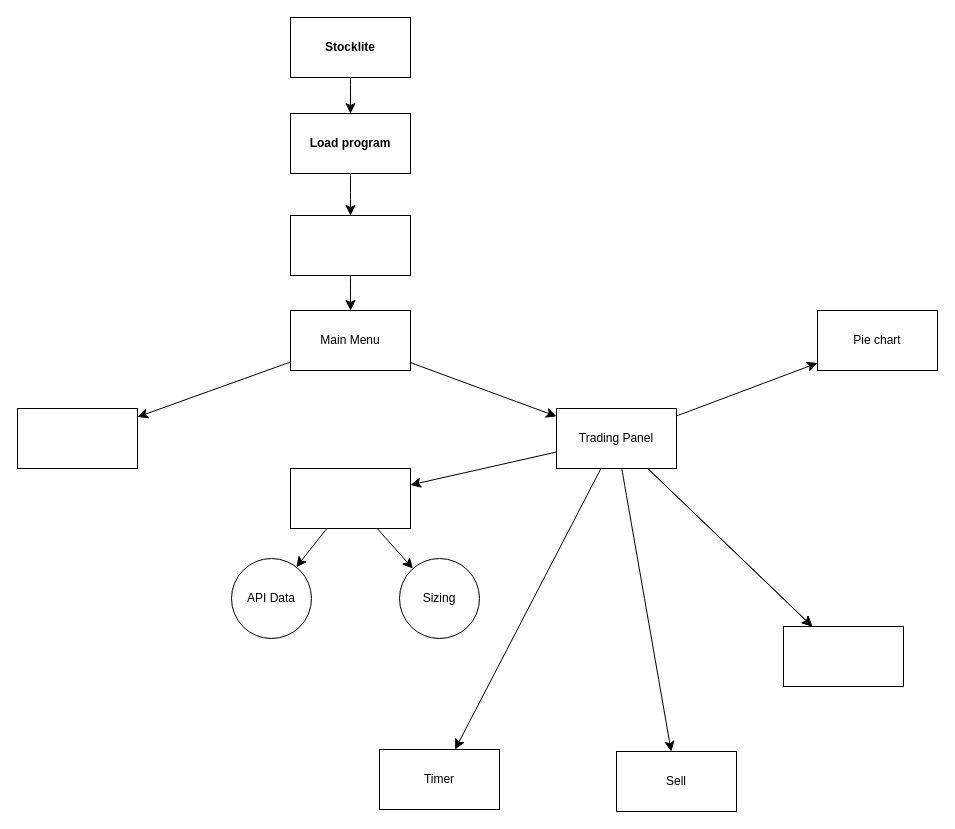
Image size: 955x829. Some labels were removed from this diagram. Here are the shapes that lost their labels. From the top down, the centre of each, then its label:
At [350,245]: "loading Page".
At [77,438]: "Help Menu".
At [350,498]: "Trading Chart".
At [843,656]: "Buy".
